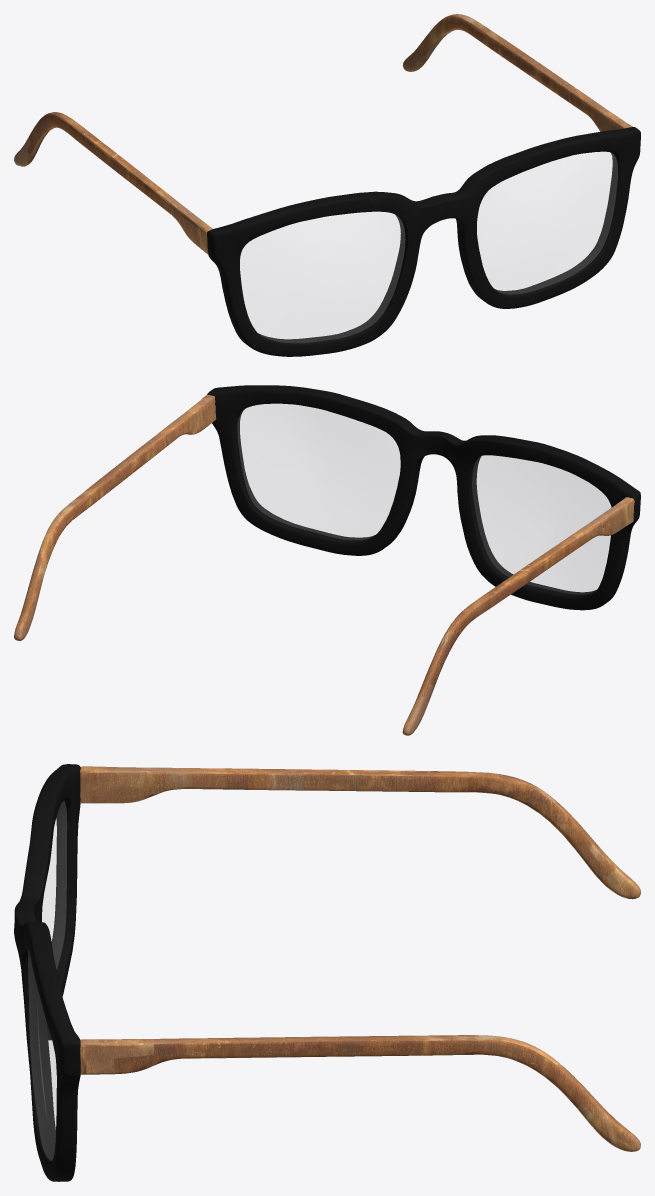
The model's file is wood-glasses.glb.
The picture shows the model from 3 angles, top to bottom: view 1: azimuth 30°, elevation 25°; view 2: azimuth 150°, elevation 25°; view 3: azimuth 270°, elevation 25°; orthographic projection. The views are drawn at different scales.
Visible parts, largest first — view 1: Glasses_3, Frame_1, Handles_2; view 2: Glasses_3, Frame_1, Handles_2; view 3: Handles_2, Frame_1, Glasses_3.
Part boxes in pixels (<box>): Glasses_3: <box>240,152,617,342</box>; Frame_1: <box>207,127,640,356</box>; Handles_2: <box>14,14,632,254</box>; Glasses_3: <box>237,404,610,594</box>; Frame_1: <box>207,385,640,610</box>; Handles_2: <box>14,394,634,735</box>; Handles_2: <box>80,766,640,1151</box>; Frame_1: <box>14,764,80,1181</box>; Glasses_3: <box>28,801,66,1160</box>.
Bounding box in the file's own units: 1.41 × 0.4823 × 1.33.
Materials: 3 (1 with a texture image).
